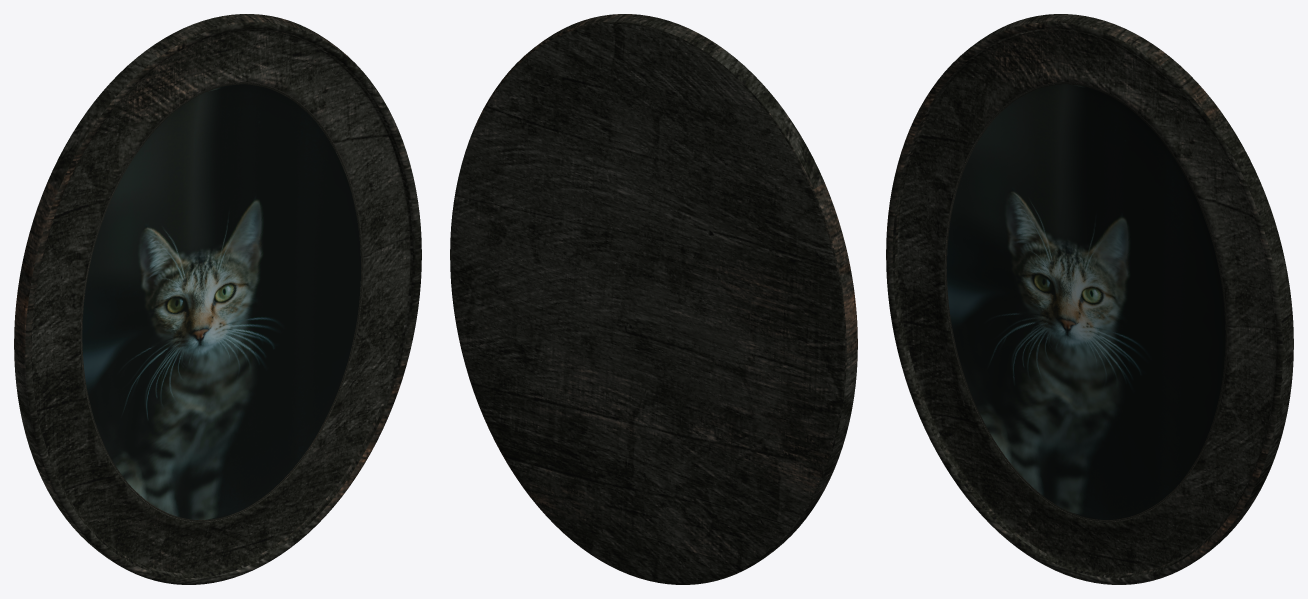
File: PZ_PICTURE3.fbx
3 views of the same model, side by side, from view 1: azimuth 30°, elevation 25°; view 2: azimuth 150°, elevation 25°; view 3: azimuth 330°, elevation 25° (orthographic).
Visible parts, largest first — view 1: PZ_PICTURE3; view 2: PZ_PICTURE3; view 3: PZ_PICTURE3.
Boxes of the visible parts, box(x1,y1,x2,y2) form: PZ_PICTURE3: box(14, 14, 421, 584); PZ_PICTURE3: box(450, 14, 857, 584); PZ_PICTURE3: box(886, 14, 1293, 584).
Bounding box in the file's own units: 74.5 × 99.34 × 4.01.
